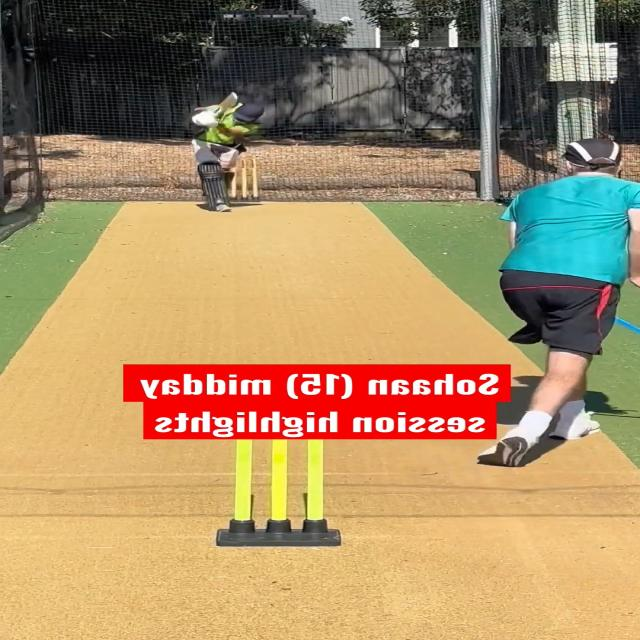stump: (215, 438, 338, 546), (229, 154, 259, 204)
